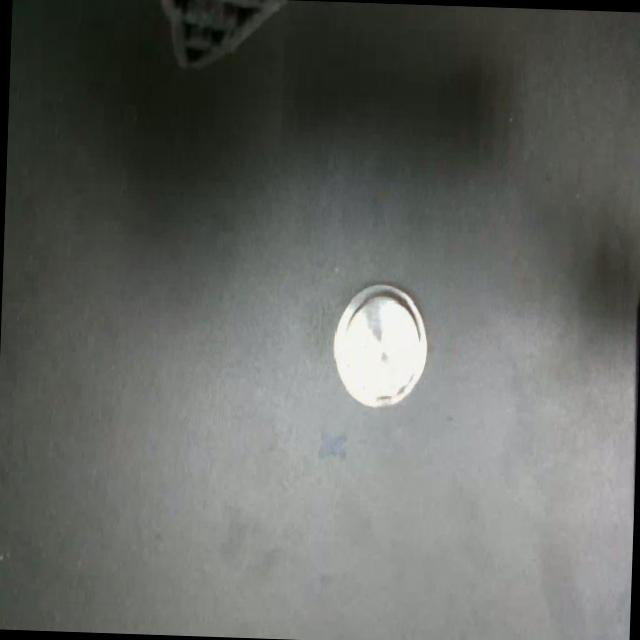sensor: (327, 280, 429, 410)
